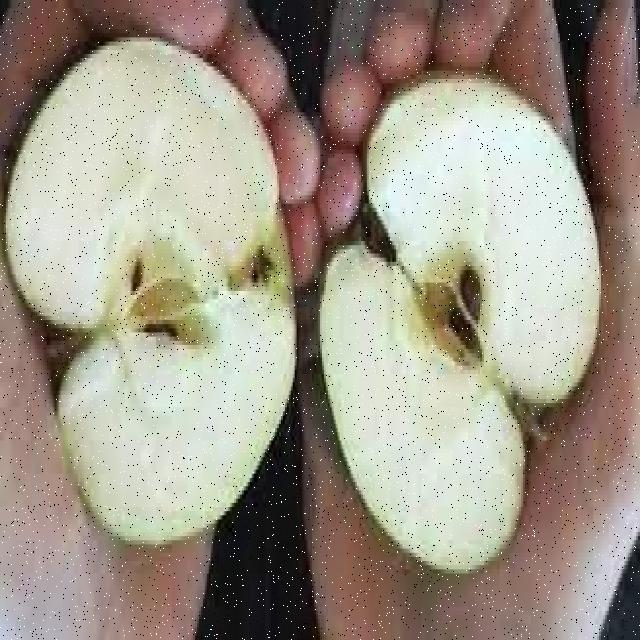Apple: (5, 22, 297, 546), (316, 79, 605, 582)
